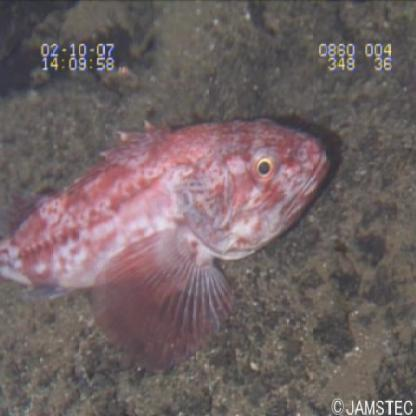Bio: (1, 113, 334, 380)
